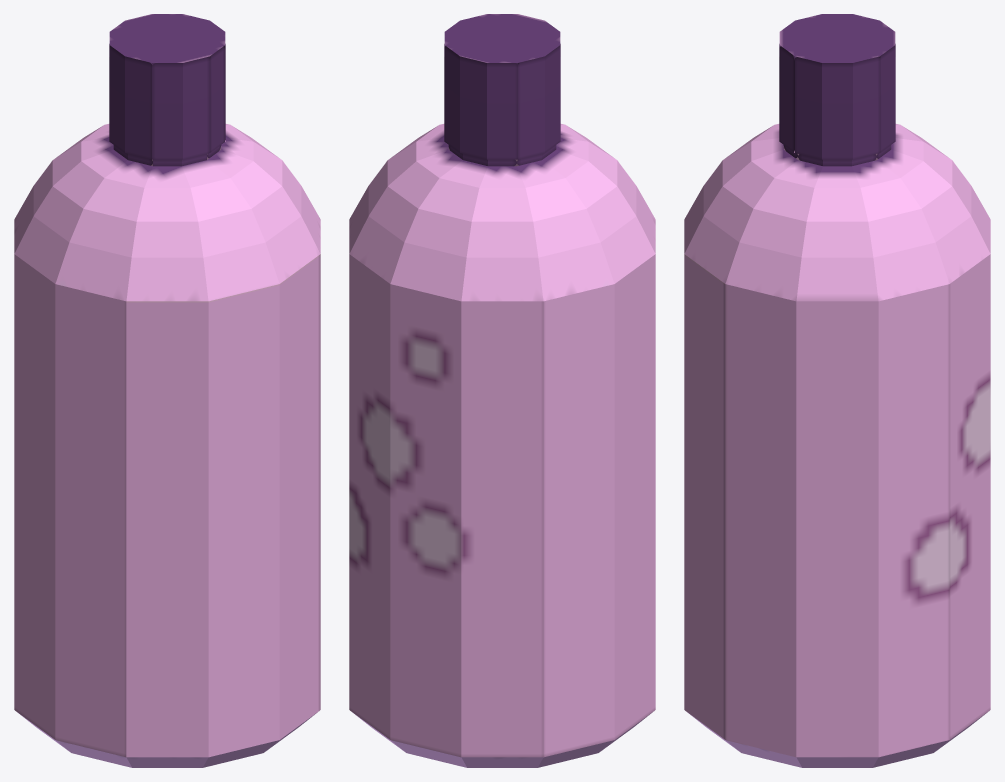
Rendered from Soap.fbx.
3 views of the same model, side by side, from view 1: azimuth 30°, elevation 25°; view 2: azimuth 150°, elevation 25°; view 3: azimuth 270°, elevation 25° (orthographic).
Visible parts, largest first — view 1: SoapBottle; view 2: SoapBottle; view 3: SoapBottle.
Boxes of the visible parts, x1,y1,x2,y2 form: SoapBottle: [14, 14, 320, 767]; SoapBottle: [349, 14, 655, 767]; SoapBottle: [684, 14, 990, 767].
Size of the model in its own units: 43.75 by 106 by 43.75.
Materials: 1 (1 with a texture image).
